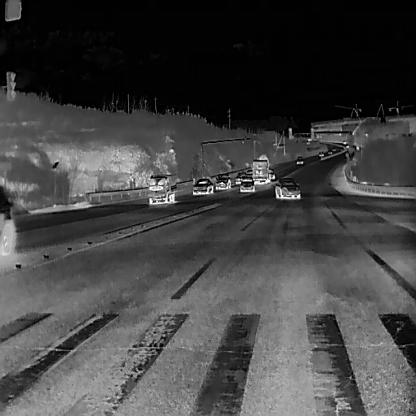car: (274, 176, 300, 199), (192, 177, 213, 195), (238, 174, 255, 192), (214, 172, 231, 190), (234, 172, 247, 184), (267, 168, 275, 180), (244, 168, 253, 177), (296, 155, 303, 164), (318, 150, 324, 157), (327, 148, 332, 153), (342, 139, 346, 144), (345, 143, 349, 148), (339, 146, 343, 151), (332, 146, 336, 151)
truck: (146, 172, 178, 204), (250, 153, 271, 184), (354, 142, 360, 150)
